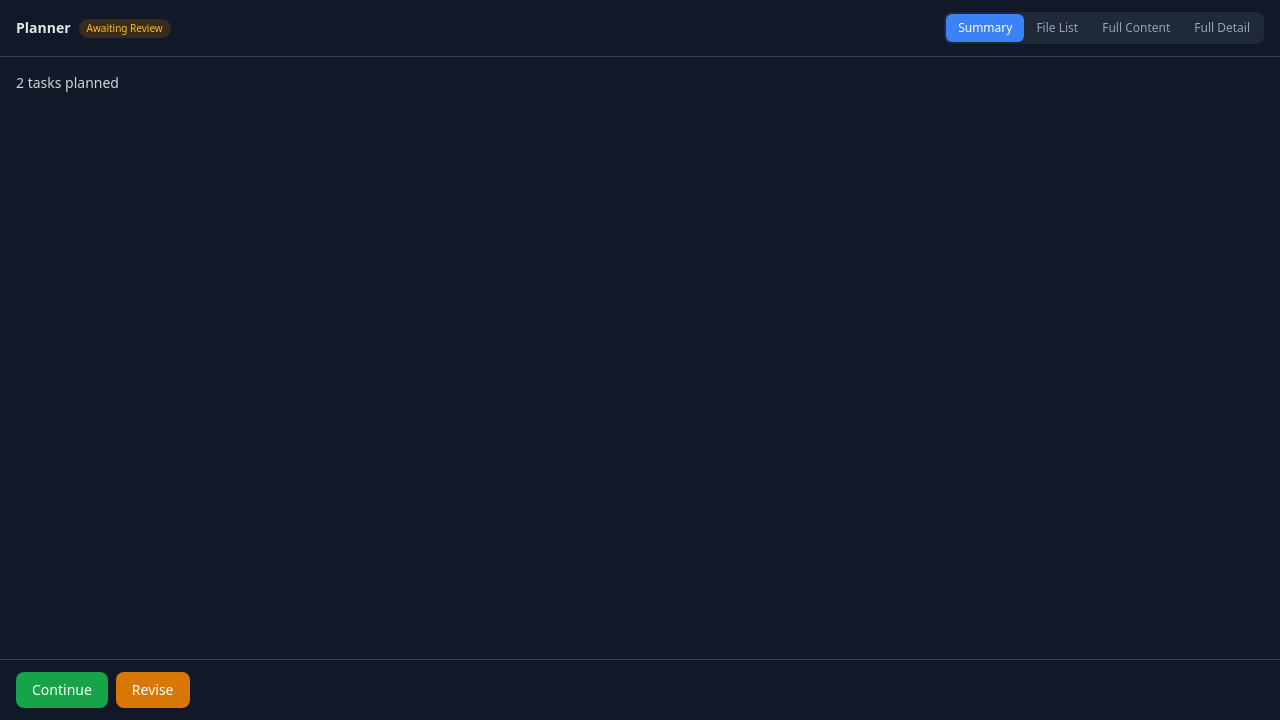
Test case: StepGatePanel › changes scrutiny level when clicking options
The image size is (1280, 720).
Check: the text "2 tasks planned" is shown, box [16,73,119,92]
# Switch to file_list
Click the button with test id "scrutiny-option-file_list" at (1057, 28), box [1024,14,1090,42]
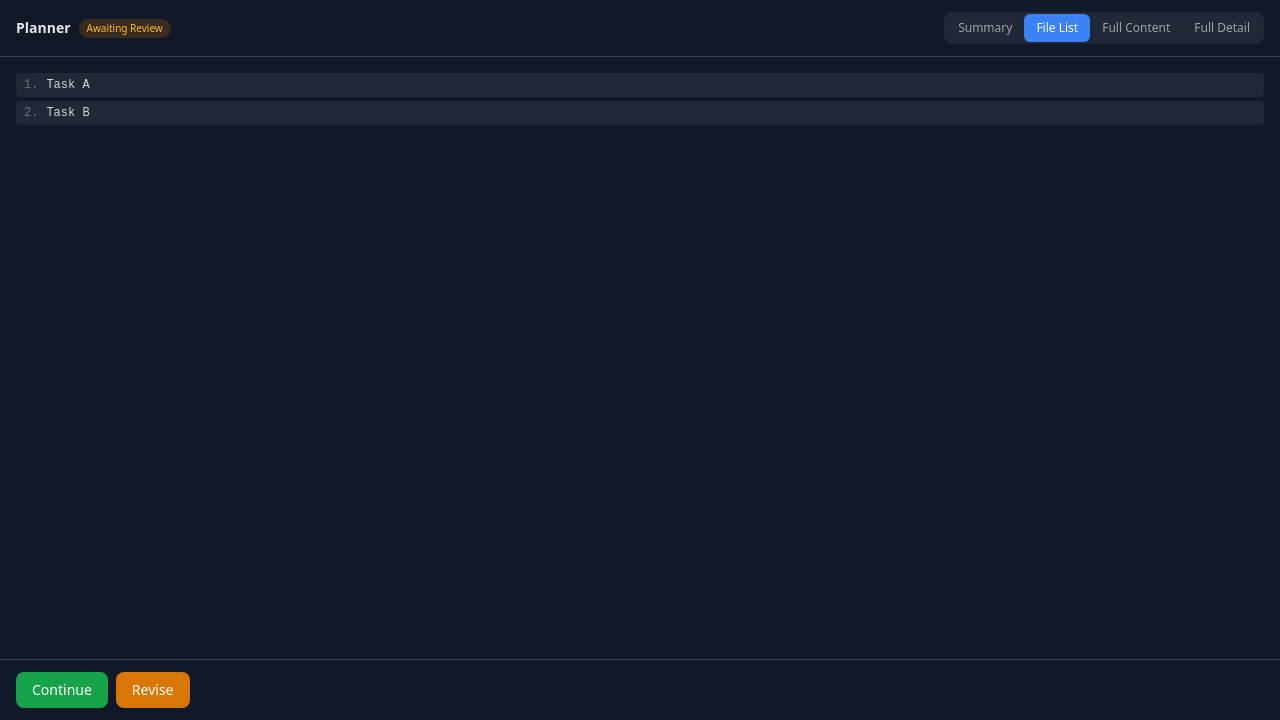
Check: the list with test id "deliverables-file-list" is shown, box [16,73,1264,125]
